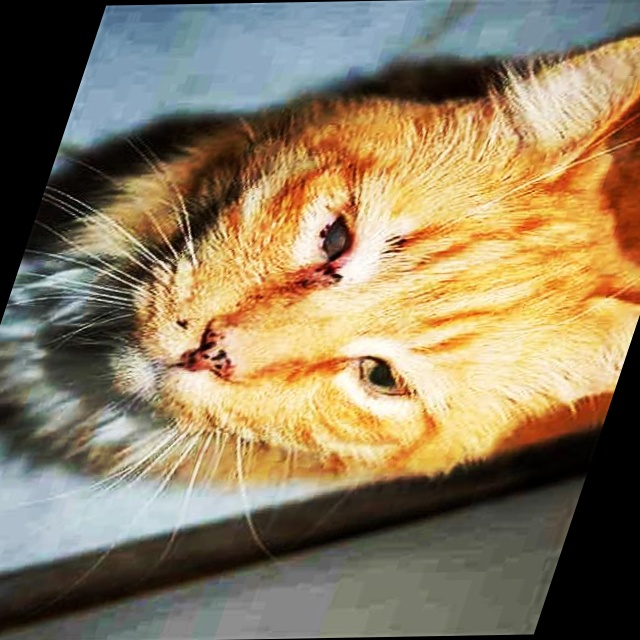eye_infection: (303, 219, 361, 273)
